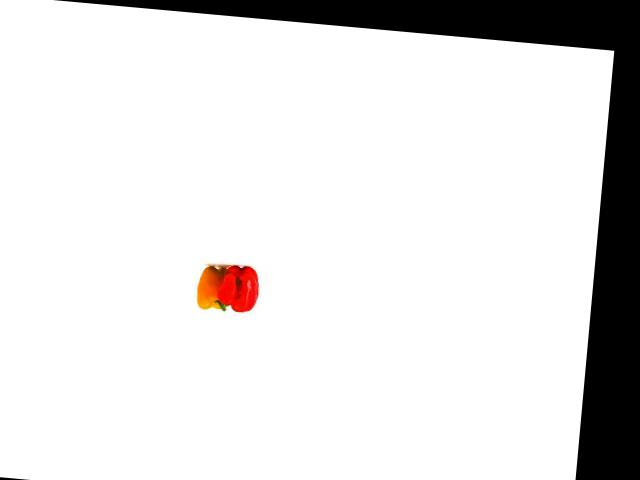bell_pepper: (194, 262, 235, 310)
